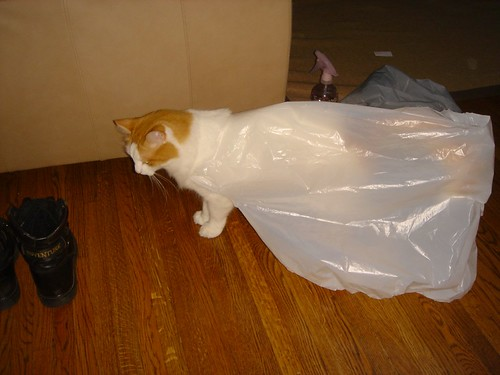plastic bag: (190, 100, 496, 304)
